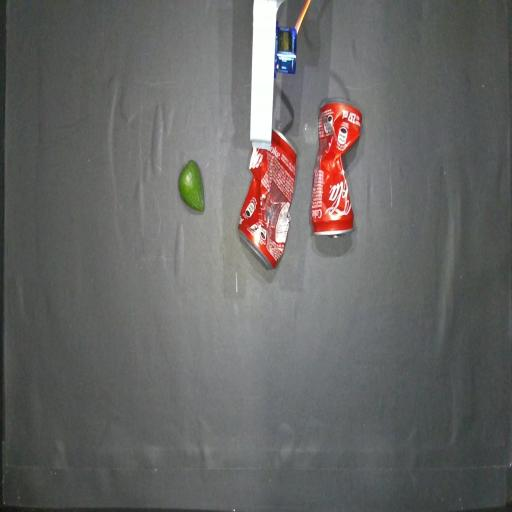higo: (178, 160, 204, 211)
lata_defectuoso: (238, 130, 296, 269), (310, 100, 362, 237)
